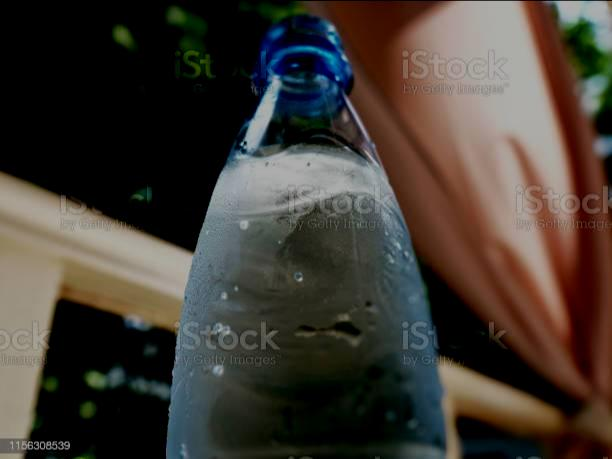bottle: (158, 7, 460, 459)
